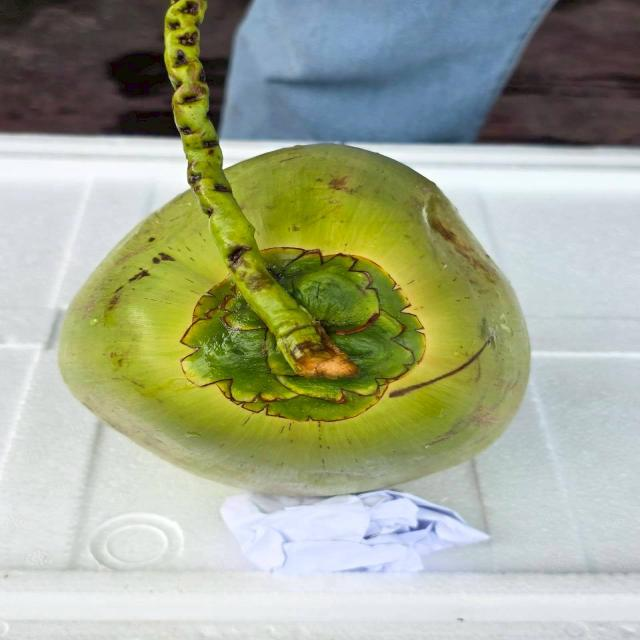coco_2.0: (149, 224, 452, 452)
